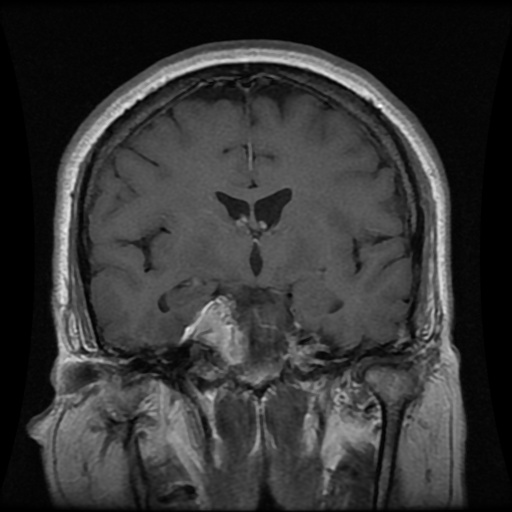meningioma: (182, 296, 248, 364)
